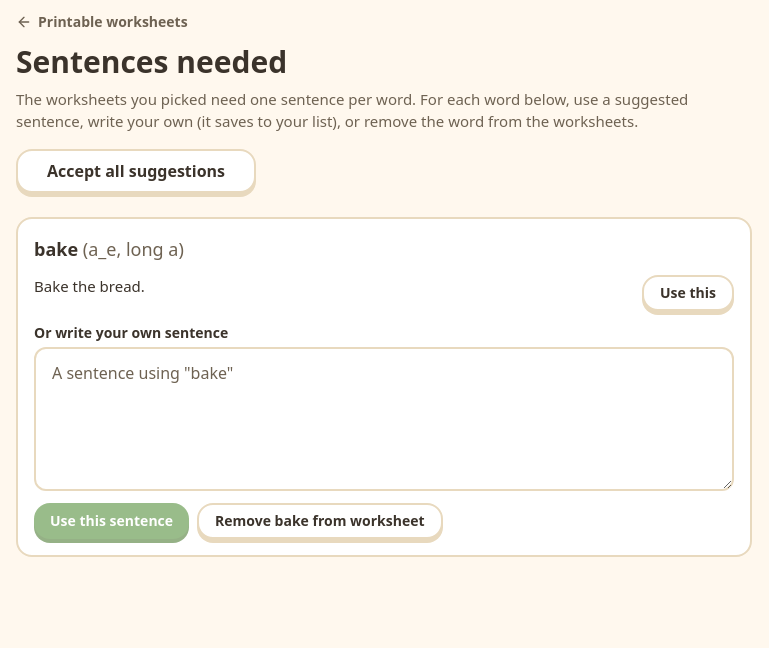
WorksheetsPrintPage › sentence gap flow › shows an error when saving a sentence fails
Expected: the text "Bake the bread." is shown, [34,274,145,297]
Click the button "Use this".
click(688, 292)  # box [642,274,734,310]
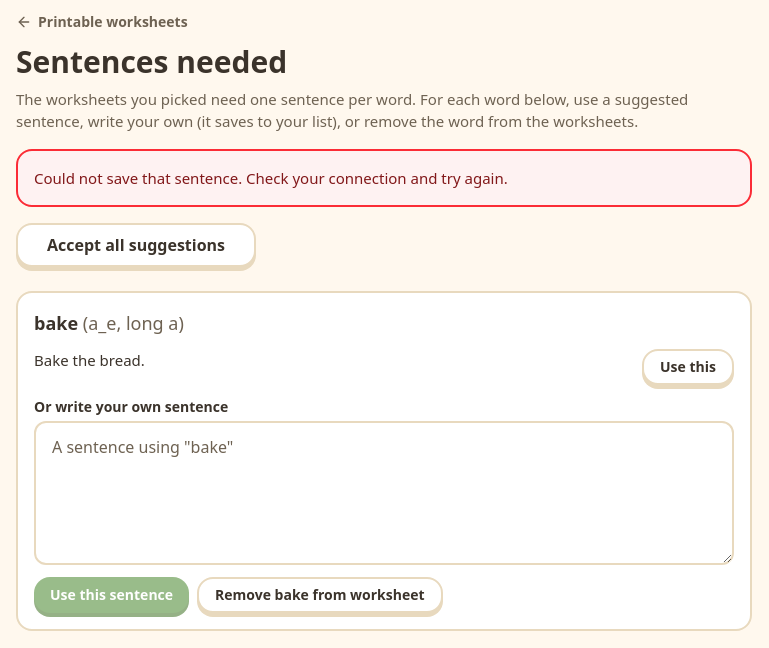
Expected: the heading "Sentences needed" is shown, [16,40,287,82]
Expected: the message shows "Could not save that sentence.", [34,168,508,188]
